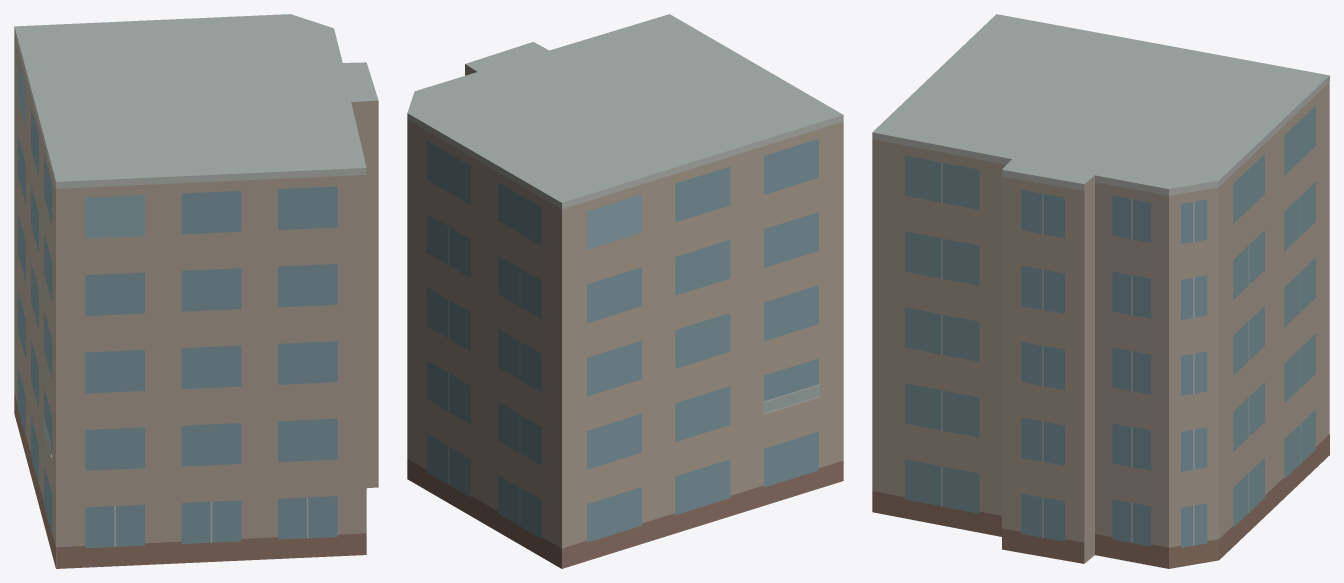
File: survey-upis-32532150.glb
The picture shows the model from 3 angles, left to right: view 1: azimuth 30°, elevation 25°; view 2: azimuth 150°, elevation 25°; view 3: azimuth 270°, elevation 25°; orthographic projection. The views are drawn at different scales.
Parts seen in each view (by area): view 1: survey-upis-32532150.tmp; view 2: survey-upis-32532150.tmp; view 3: survey-upis-32532150.tmp.
Boxes of the visible parts, x1,y1,x2,y2 form: survey-upis-32532150.tmp: (14, 14, 378, 568); survey-upis-32532150.tmp: (407, 14, 843, 568); survey-upis-32532150.tmp: (872, 14, 1329, 568).
Size of the model in its own units: 13.56 by 13.7 by 14.97.
